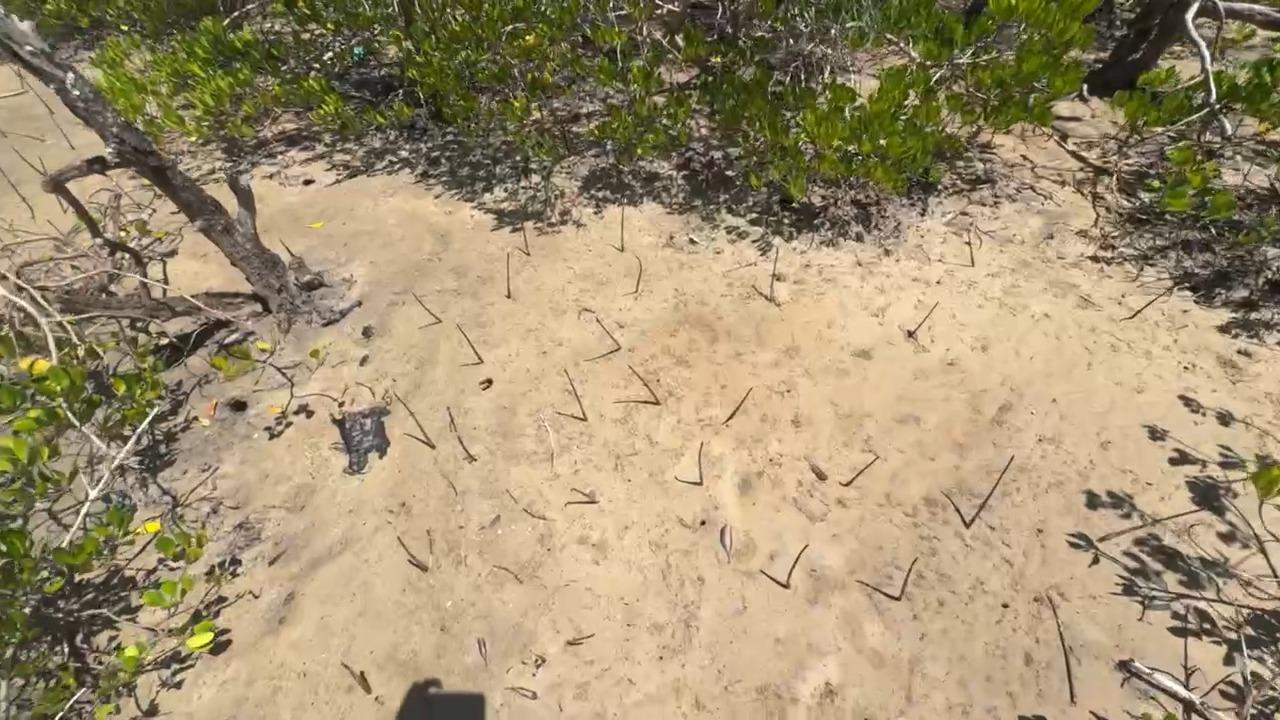Tree: (967, 453, 1015, 528), (393, 390, 435, 449), (0, 167, 35, 219), (1129, 283, 1177, 319), (38, 154, 66, 212), (626, 363, 660, 405), (21, 76, 55, 114), (721, 386, 753, 426), (563, 368, 587, 421), (396, 535, 429, 571), (455, 323, 484, 363), (908, 301, 939, 338), (784, 544, 810, 588), (339, 660, 372, 694), (844, 455, 879, 486), (897, 557, 919, 601), (411, 292, 443, 322), (50, 113, 75, 151), (12, 146, 43, 176), (594, 316, 621, 349), (769, 247, 780, 301), (0, 130, 45, 143), (457, 436, 477, 462), (564, 632, 596, 645), (570, 487, 597, 502), (4, 60, 24, 80), (520, 219, 530, 256), (0, 87, 29, 99), (46, 218, 64, 237), (445, 406, 458, 432), (634, 254, 642, 293), (967, 228, 975, 267), (278, 238, 294, 257), (698, 441, 704, 486), (506, 251, 511, 298), (620, 207, 625, 252)
